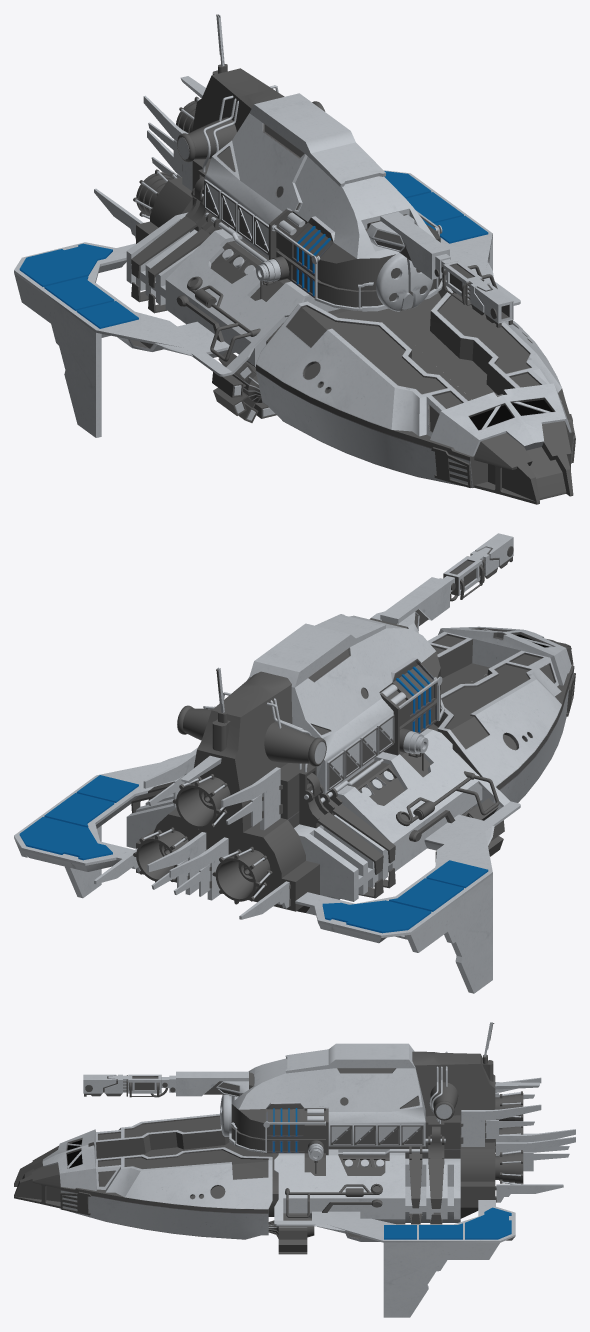
File: spaceship.gltf
The picture shows the model from 3 angles, top to bottom: view 1: azimuth 30°, elevation 25°; view 2: azimuth 150°, elevation 25°; view 3: azimuth 270°, elevation 25°; orthographic projection. The views are drawn at different scales.
Visible parts, largest first — view 1: Object_4, Object_3, Object_7, Object_6, Object_5; view 2: Object_4, Object_3, Object_7, Object_6, Object_5; view 3: Object_4, Object_3, Object_7, Object_5, Object_6.
Part boxes in pixels (bbox=[...]): Object_4: bbox=[14, 14, 574, 504]; Object_3: bbox=[14, 14, 575, 504]; Object_7: bbox=[165, 98, 497, 365]; Object_6: bbox=[136, 66, 433, 311]; Object_5: bbox=[135, 74, 570, 491]; Object_4: bbox=[20, 533, 575, 993]; Object_3: bbox=[14, 546, 575, 993]; Object_7: bbox=[203, 547, 499, 871]; Object_6: bbox=[138, 692, 434, 899]; Object_5: bbox=[143, 546, 570, 906]; Object_4: bbox=[14, 1023, 575, 1317]; Object_3: bbox=[14, 1022, 575, 1287]; Object_7: bbox=[108, 1066, 442, 1219]; Object_5: bbox=[45, 1064, 520, 1237]; Object_6: bbox=[123, 1051, 523, 1192].
Size of the model in its own units: 5598 by 4298 by 9676.
Materials: 1 (1 with a texture image).
